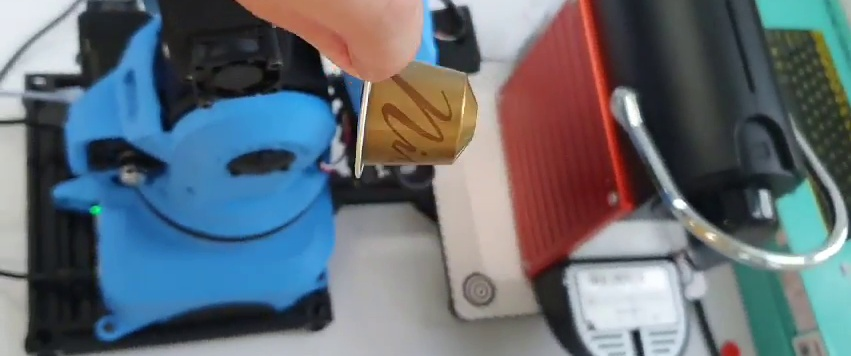capsule_9: (347, 45, 479, 175)
